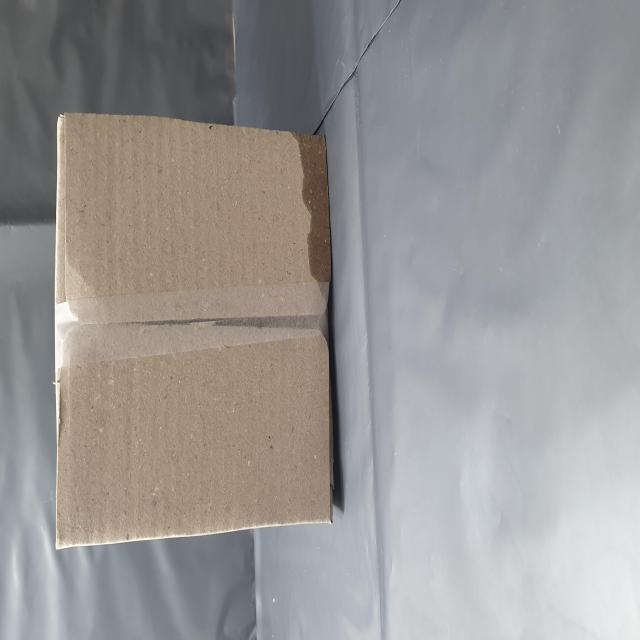wet: (196, 530, 293, 598)
